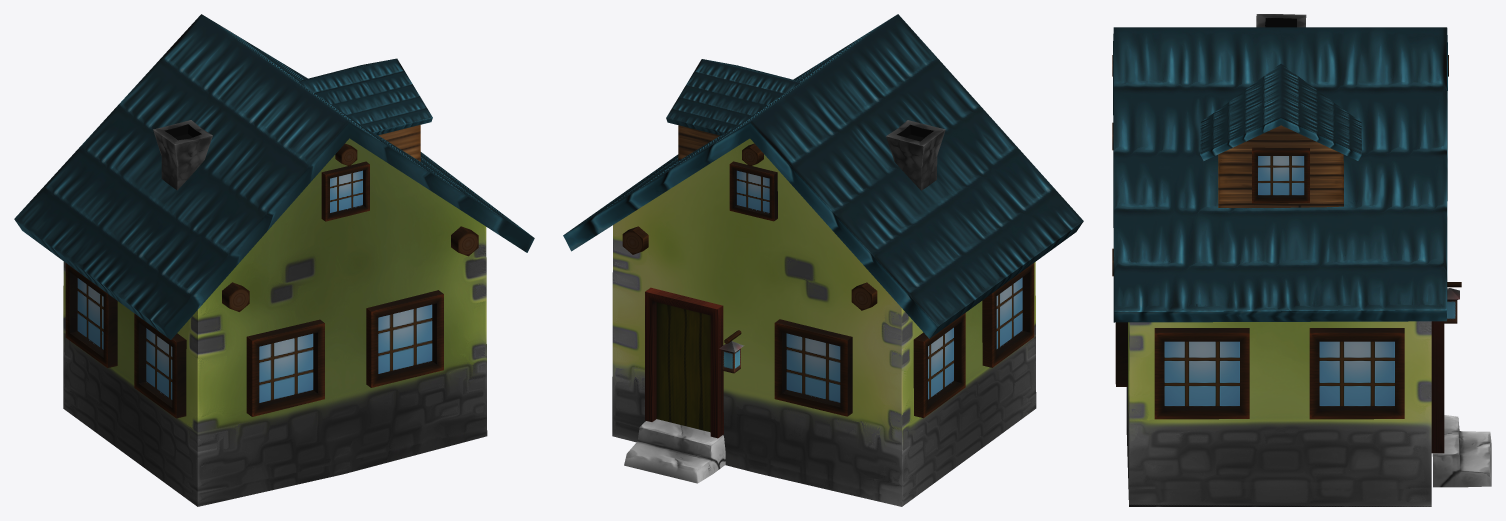
File: cotage4.fbx
The picture shows the model from 3 angles, left to right: view 1: azimuth 30°, elevation 25°; view 2: azimuth 150°, elevation 25°; view 3: azimuth 270°, elevation 25°; orthographic projection. The views are drawn at different scales.
Visible parts, largest first — view 1: walls_big_house, roof, WINDOW_6, WINDOW_5, roof_1, WINDOW, WINDOW_1, CHIMNEY, WINDOW_9, WALLS, short_wood_6, short_wood_5; view 2: walls_big_house, roof, DOOR, WINDOW_7, roof_1, stairs, WINDOW_1, WINDOW, CHIMNEY, WINDOW_10, WALLS, short_wood_1 (+1 smaller); view 3: roof, walls_big_house, WINDOW_3, WINDOW_2, roof_1, WALLS, stairs, WINDOW_4, DOOR, WINDOW_5, CHIMNEY.
Boxes of the visible parts, <box> form: walls_big_house: <box>63,138,487,506</box>; roof: <box>14,14,534,339</box>; WINDOW_6: <box>246,319,324,416</box>; WINDOW_5: <box>366,290,443,387</box>; roof_1: <box>299,58,432,135</box>; WINDOW: <box>134,313,186,418</box>; WINDOW_1: <box>65,263,117,367</box>; CHIMNEY: <box>153,120,212,190</box>; WINDOW_9: <box>321,161,369,221</box>; WALLS: <box>378,125,420,161</box>; short_wood_6: <box>451,226,478,256</box>; short_wood_5: <box>222,282,249,311</box>; walls_big_house: <box>612,138,1036,506</box>; roof: <box>563,14,1083,338</box>; DOOR: <box>645,287,723,438</box>; WINDOW_7: <box>774,319,852,416</box>; roof_1: <box>666,59,799,135</box>; stairs: <box>624,419,725,483</box>; WINDOW_1: <box>913,313,965,418</box>; WINDOW: <box>982,263,1034,367</box>; CHIMNEY: <box>886,120,945,190</box>; WINDOW_10: <box>729,161,777,221</box>; WALLS: <box>678,125,719,160</box>; short_wood_1: <box>622,226,648,254</box>; roof: <box>1113,27,1447,322</box>; walls_big_house: <box>1126,321,1431,506</box>; WINDOW_3: <box>1154,328,1249,419</box>; WINDOW_2: <box>1309,328,1404,419</box>; roof_1: <box>1200,63,1361,160</box>; WALLS: <box>1218,125,1343,207</box>; stairs: <box>1432,415,1491,487</box>; WINDOW_4: <box>1252,147,1309,203</box>; DOOR: <box>1431,321,1444,453</box>; WINDOW_5: <box>1115,322,1127,386</box>; CHIMNEY: <box>1256,14,1306,27</box>.
Bounding box in the file's own units: 635 × 576 × 493.
10 materials, 9 textured.
